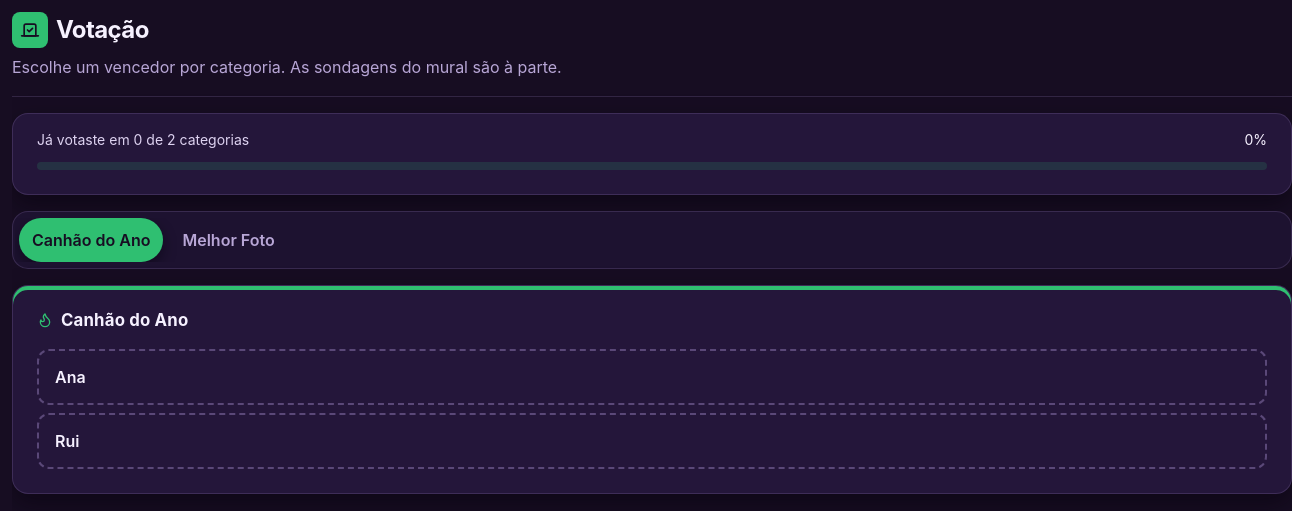
CanhoesOfficialVotingModule › shows the first category's options and switches category from the tabs
Expected: the text "Já votaste em 0 de 2 categorias" is shown, [37,130,249,150]
Expected: the heading "Votação" is shown, [12,12,149,48]
Click the button "Melhor Foto" at (229, 240), box [170,218,288,262]
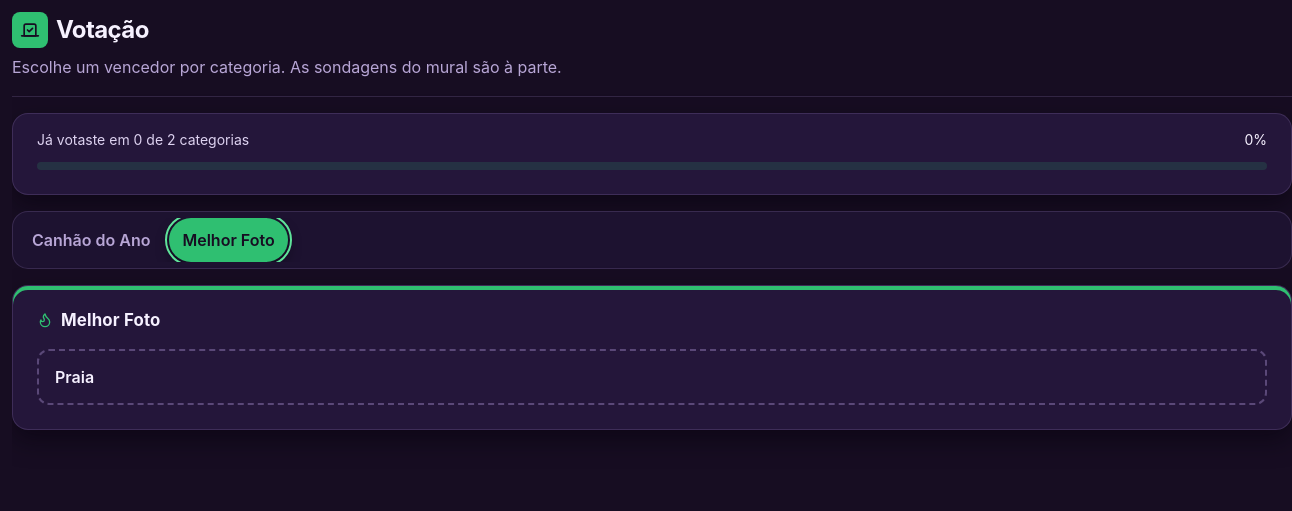
Now the button "Praia" is shown, box [37,348,1267,404]
Now the button "Ana" is gone
